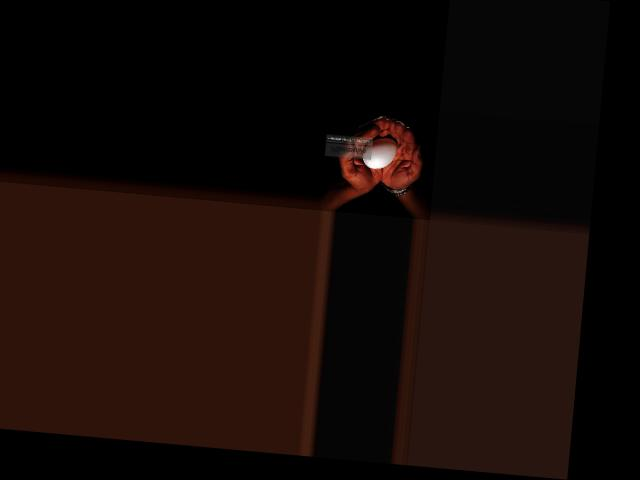egg: (363, 135, 398, 169)
